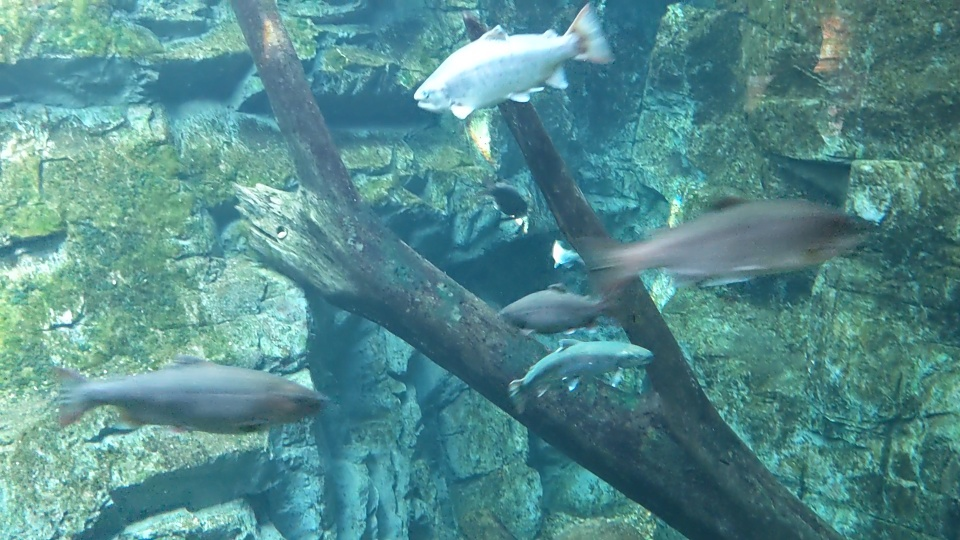Fish: (544, 201, 874, 284), (410, 7, 617, 120), (56, 357, 328, 438), (508, 338, 648, 413), (487, 285, 606, 336)
